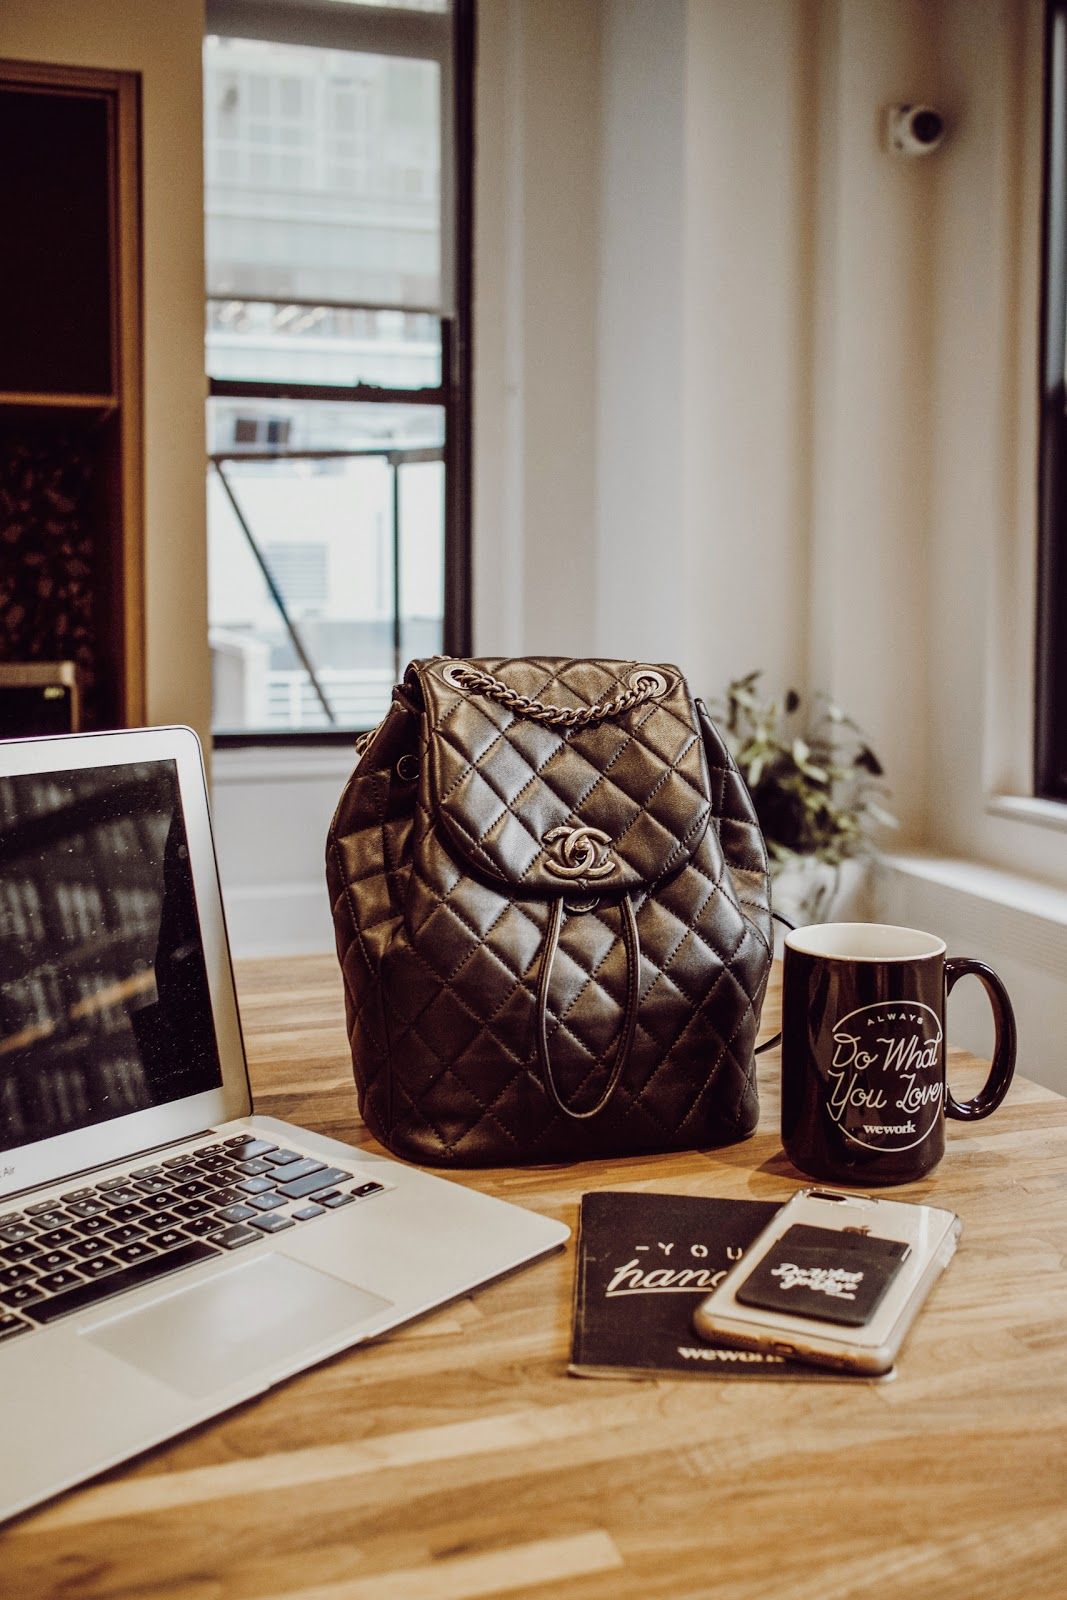wework: (860, 1118, 918, 1136)
